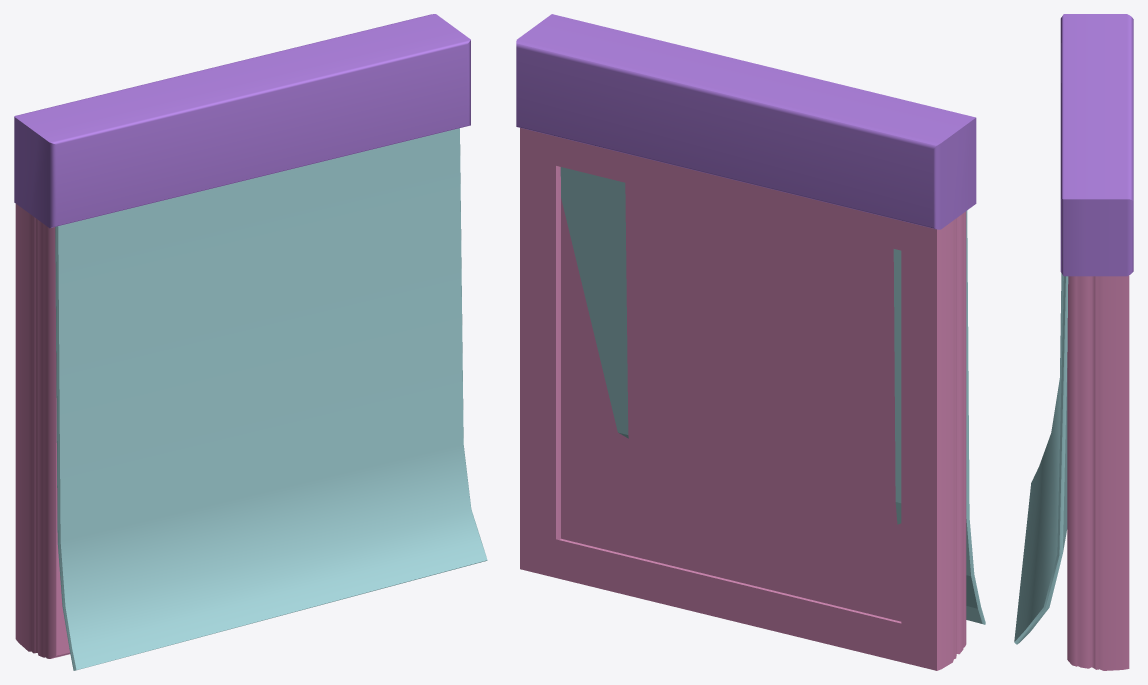
File: Friday_House_Calendar.fbx
3 renders of one model, left to right at view 1: azimuth 30°, elevation 25°; view 2: azimuth 150°, elevation 25°; view 3: azimuth 270°, elevation 25°, orthographic. The views are drawn at different scales.
Visible parts, largest first — view 1: Glass1, pCube1, Glass; view 2: Glass, pCube1, Glass1; view 3: Glass, pCube1, Glass1.
Part boxes in pixels (x1,y1,x2,y2): Glass1: (55, 128, 487, 670); pCube1: (14, 14, 470, 228); Glass: (15, 204, 70, 658); Glass: (520, 128, 966, 670); pCube1: (516, 14, 976, 229); Glass1: (560, 167, 985, 624); Glass: (1067, 275, 1129, 670); pCube1: (1060, 14, 1133, 276); Glass1: (1014, 273, 1068, 644).
Size of the model in its own units: 161 by 192 by 43.96.
